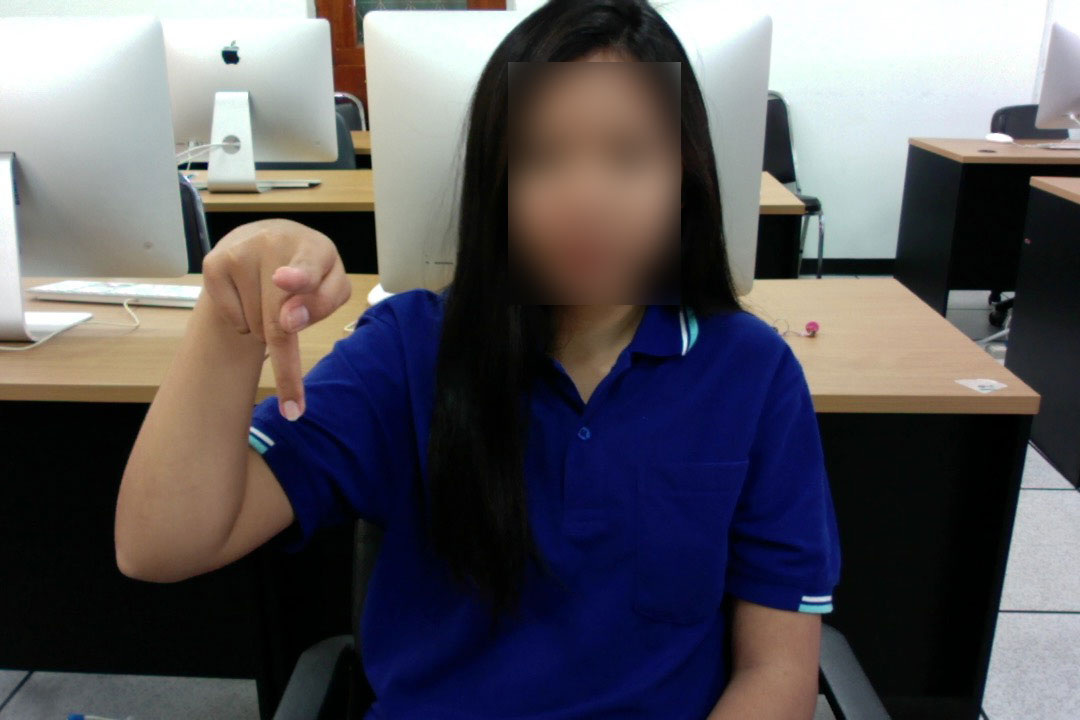por: (189, 203, 357, 431)
